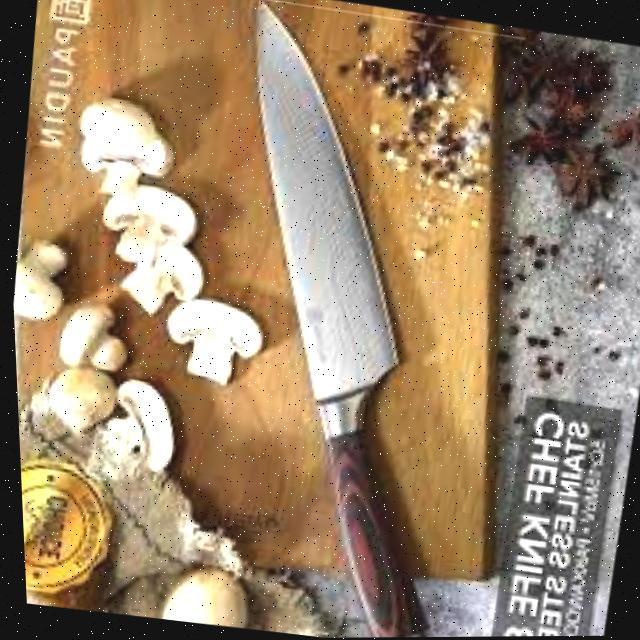knife: (178, 0, 497, 639)
